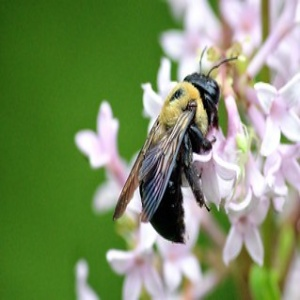bee: (112, 46, 241, 252)
